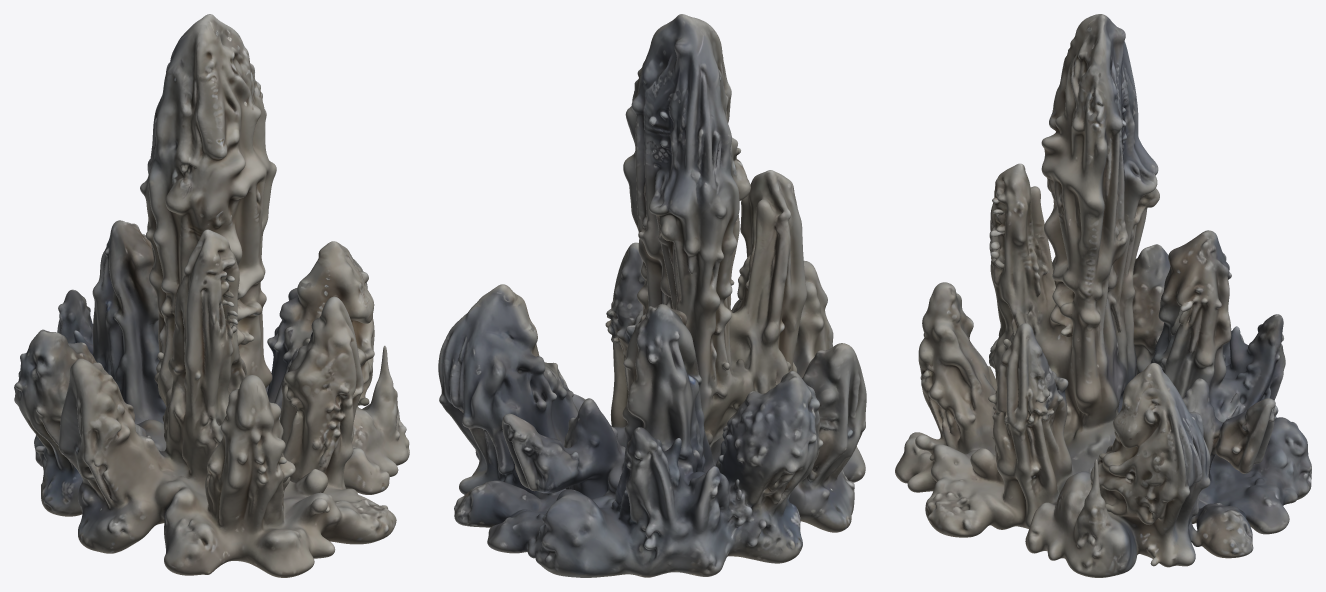
Rendered from env_stalagmite_cluster.glb.
The picture shows the model from 3 angles, left to right: view 1: azimuth 30°, elevation 25°; view 2: azimuth 150°, elevation 25°; view 3: azimuth 270°, elevation 25°; orthographic projection. The views are drawn at different scales.
Parts seen in each view (by area): view 1: tripo_node_b958e5c8-be07-4208-9d87-b0ac715ece63; view 2: tripo_node_b958e5c8-be07-4208-9d87-b0ac715ece63; view 3: tripo_node_b958e5c8-be07-4208-9d87-b0ac715ece63.
Part boxes in pixels (x1,y1,x2,y2): tripo_node_b958e5c8-be07-4208-9d87-b0ac715ece63: (14, 14, 409, 577); tripo_node_b958e5c8-be07-4208-9d87-b0ac715ece63: (438, 14, 866, 577); tripo_node_b958e5c8-be07-4208-9d87-b0ac715ece63: (895, 14, 1311, 577).
Size of the model in its own units: 0.773 by 1 by 0.7913.
Materials: 1 (1 with a texture image).
